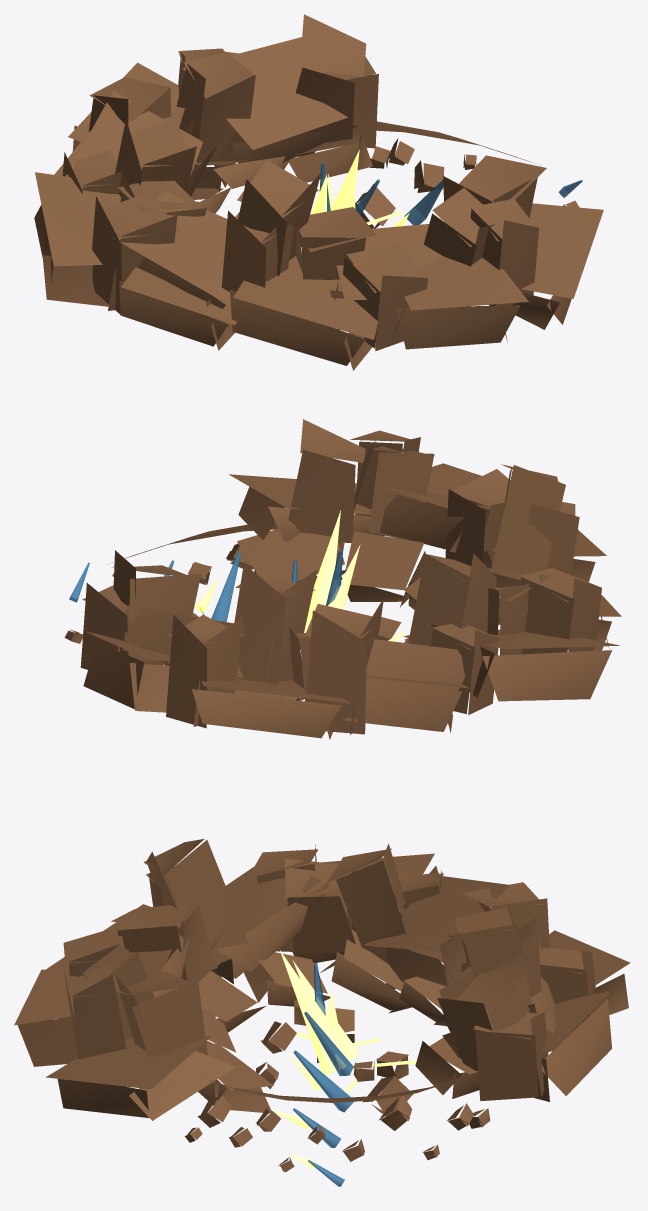
File: crater-glassrain.glb
3 views of the same model, one above another, from view 1: azimuth 30°, elevation 25°; view 2: azimuth 150°, elevation 25°; view 3: azimuth 270°, elevation 25° (orthographic). The views are drawn at different scales.
Visible parts, largest first — view 1: Mesh_RimRockOuter_7, Mesh_RimRockInner_14, Mesh_RimRockOuter_5, Mesh_RimRockOuter_11, Mesh_RimRockOuter_3, Mesh_RimRockInner_8, Mesh_RimRockInner_13, Mesh_RimRockOuter_10, Mesh_RimRockOuter_9, Mesh_RimRockInner_15, Mesh_RimRockOuter_6, Mesh_RimRockInner_7 (+22 smaller); view 2: Mesh_RimRockOuter_11, Mesh_RimRockOuter_14, Mesh_RimRockInner_13, Mesh_RimRockInner_3, Mesh_RimRockOuter_15, Mesh_RimRockOuter_16, Mesh_RimRockInner_10, Mesh_RimRockInner_7, Mesh_RimRockOuter_10, Mesh_RimRockOuter_17, Mesh_InnerSlide_2, Mesh_RimRockInner_6 (+21 smaller); view 3: Mesh_RimRockOuter_3, Mesh_RimRockInner_11, Mesh_RimRockInner_8, Mesh_RimRockInner_7, Mesh_RimRockInner_3, Mesh_RimRockInner_10, Mesh_RimRockOuter_18, Mesh_RimRockOuter_17, Mesh_RimRockInner_15, Mesh_RimRockOuter_5, Mesh_RimRockInner_9, Mesh_RimRockInner_6 (+30 smaller).
Boxes of the visible parts, <box> form: Mesh_RimRockOuter_7: <box>230,254,379,370</box>; Mesh_RimRockInner_14: <box>183,37,358,187</box>; Mesh_RimRockOuter_5: <box>392,256,528,349</box>; Mesh_RimRockOuter_11: <box>34,172,120,306</box>; Mesh_RimRockOuter_3: <box>496,203,603,329</box>; Mesh_RimRockInner_8: <box>113,191,230,318</box>; Mesh_RimRockInner_13: <box>176,52,255,166</box>; Mesh_RimRockOuter_10: <box>92,192,180,314</box>; Mesh_RimRockOuter_9: <box>119,267,236,350</box>; Mesh_RimRockInner_15: <box>295,14,366,142</box>; Mesh_RimRockOuter_6: <box>341,243,427,351</box>; Mesh_RimRockInner_7: <box>237,160,321,275</box>; Mesh_RimRockOuter_11: <box>430,623,619,701</box>; Mesh_RimRockOuter_14: <box>305,598,383,735</box>; Mesh_RimRockInner_13: <box>234,564,317,683</box>; Mesh_RimRockInner_3: <box>288,419,375,542</box>; Mesh_RimRockOuter_15: <box>192,678,350,739</box>; Mesh_RimRockOuter_16: <box>166,615,244,728</box>; Mesh_RimRockInner_10: <box>408,553,496,646</box>; Mesh_RimRockInner_7: <box>491,464,565,574</box>; Mesh_RimRockOuter_10: <box>520,567,601,654</box>; Mesh_RimRockOuter_17: <box>83,631,170,712</box>; Mesh_InnerSlide_2: <box>341,531,425,607</box>; Mesh_RimRockInner_6: <box>445,469,510,565</box>; Mesh_RimRockOuter_3: <box>46,1036,235,1120</box>; Mesh_RimRockInner_11: <box>364,874,509,989</box>; Mesh_RimRockInner_8: <box>215,866,330,984</box>; Mesh_RimRockInner_7: <box>143,839,247,964</box>; Mesh_RimRockInner_3: <box>114,971,207,1058</box>; Mesh_RimRockInner_10: <box>327,843,415,963</box>; Mesh_RimRockOuter_18: <box>473,1010,548,1101</box>; Mesh_RimRockOuter_17: <box>534,991,611,1101</box>; Mesh_RimRockInner_15: <box>437,963,532,1071</box>; Mesh_RimRockOuter_5: <box>14,969,77,1066</box>; Mesh_RimRockInner_9: <box>284,858,356,953</box>; Mesh_RimRockInner_6: <box>111,903,215,987</box>.
Bounding box in the file's own units: 4.73 × 1.6 × 4.71.
